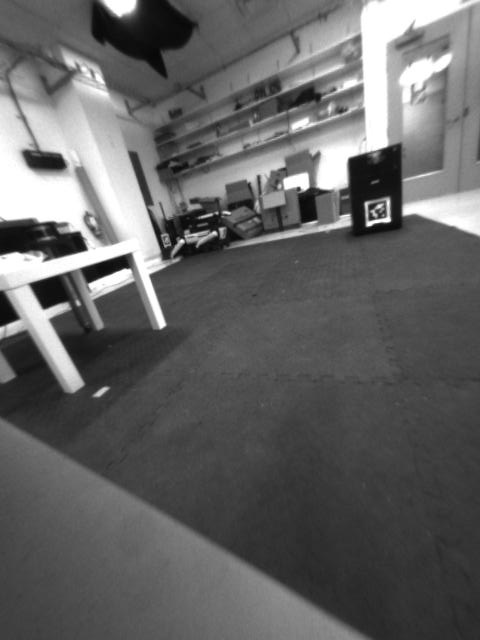door_handle: (442, 114, 465, 130)
drawer: (362, 147, 387, 171)
